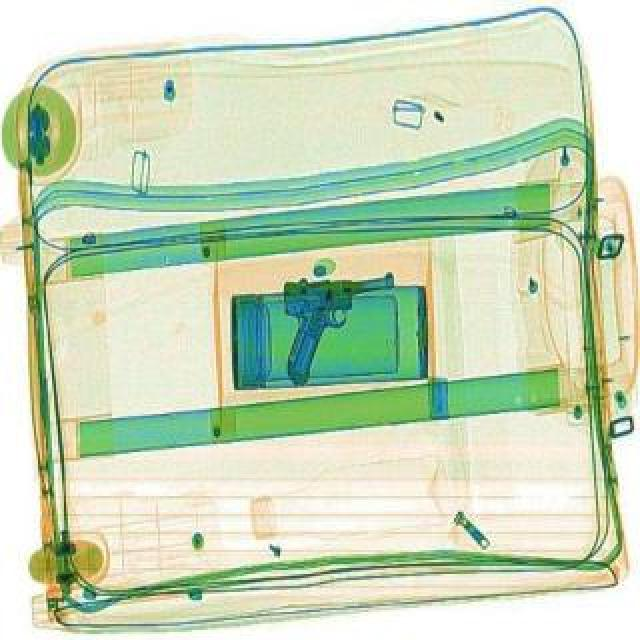gun: (278, 268, 406, 386)
